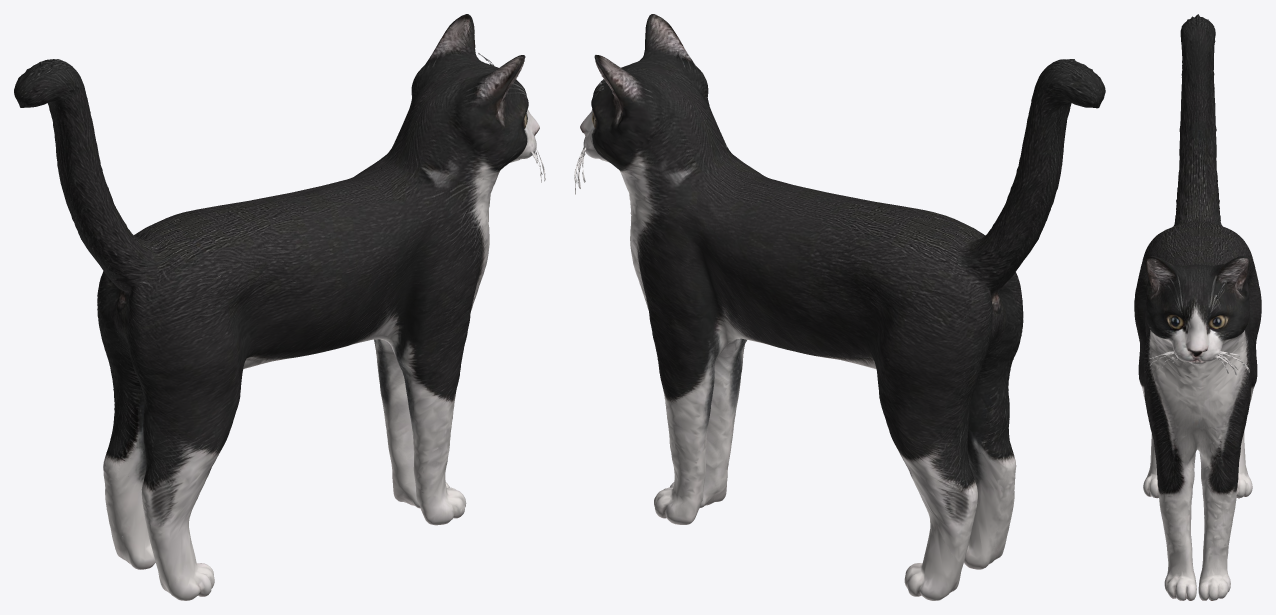
File: OREOCHAN.glb
3 renders of one model, left to right at view 1: azimuth 30°, elevation 25°; view 2: azimuth 150°, elevation 25°; view 3: azimuth 270°, elevation 25°, orthographic. The views are drawn at different scales.
Visible parts, largest first — view 1: tripo_node_5f445046-f006-44f8-b1b7-756341eaa96a; view 2: tripo_node_5f445046-f006-44f8-b1b7-756341eaa96a; view 3: tripo_node_5f445046-f006-44f8-b1b7-756341eaa96a.
Boxes of the visible parts, x1,y1,x2,y2 form: tripo_node_5f445046-f006-44f8-b1b7-756341eaa96a: (14, 14, 545, 600); tripo_node_5f445046-f006-44f8-b1b7-756341eaa96a: (574, 14, 1105, 600); tripo_node_5f445046-f006-44f8-b1b7-756341eaa96a: (1134, 14, 1261, 600).
Size of the model in its own units: 0.9958 by 0.9996 by 0.2672.
1 material, 1 textured.
